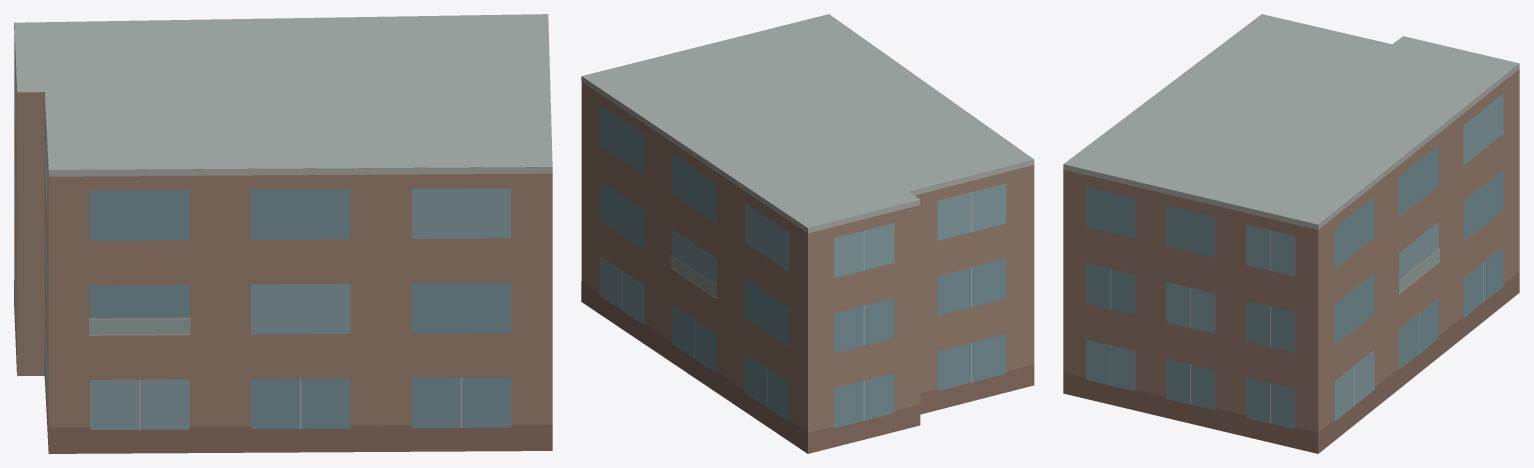
The model's file is survey-upis-32889400.glb.
The picture shows the model from 3 angles, left to right: view 1: azimuth 30°, elevation 25°; view 2: azimuth 150°, elevation 25°; view 3: azimuth 270°, elevation 25°; orthographic projection. The views are drawn at different scales.
Visible parts, largest first — view 1: survey-upis-32889400.tmp; view 2: survey-upis-32889400.tmp; view 3: survey-upis-32889400.tmp.
Part boxes in pixels (x1=…): survey-upis-32889400.tmp: x1=14, y1=14, x2=552, y2=453; survey-upis-32889400.tmp: x1=581, y1=14, x2=1034, y2=453; survey-upis-32889400.tmp: x1=1063, y1=14, x2=1519, y2=453.
Size of the model in its own units: 20.3 by 10.3 by 18.59.
